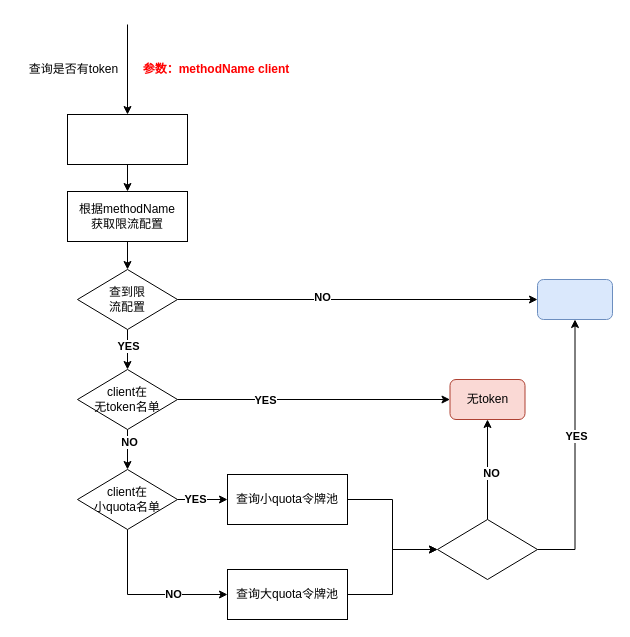
This 630x637 diagram has some shape labels left out. Each missing label, with the centre of its shape:
"令牌池有token" goes at point (487, 549).
"有token" goes at point (574, 299).
"调用限流方法，返回是否有token" goes at point (127, 139).
